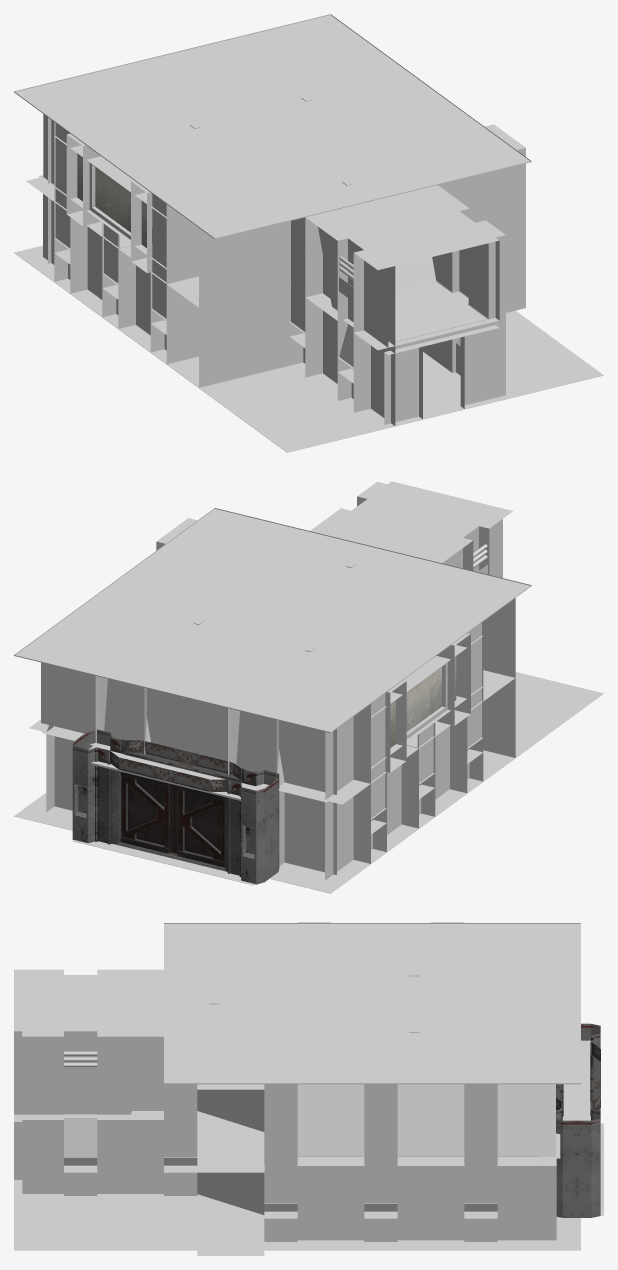
Rendered from room1_Ez.fbx.
3 views of the same model, one above another, from view 1: azimuth 30°, elevation 25°; view 2: azimuth 150°, elevation 25°; view 3: azimuth 270°, elevation 25° (orthographic). The views are drawn at different scales.
Parts seen in each view (by area): view 1: room1_Ez; view 2: room1_Ez; view 3: room1_Ez.
Boxes of the visible parts, <box> form: room1_Ez: <box>14,14,603,452</box>; room1_Ez: <box>14,481,603,893</box>; room1_Ez: <box>14,922,603,1255</box>.
Size of the model in its own units: 15.2 by 7.09 by 22.64.
